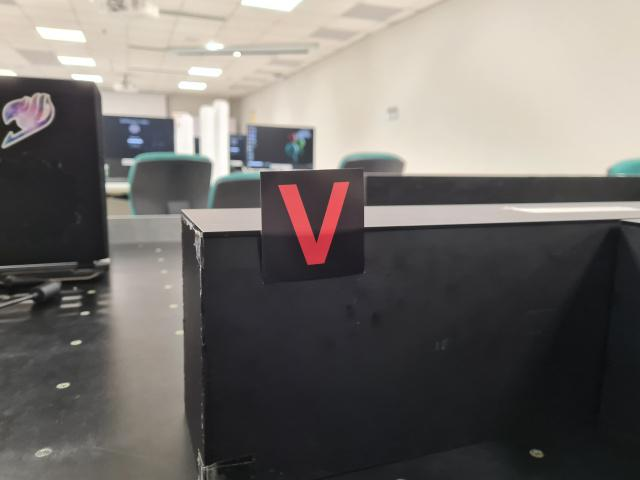v: (260, 169, 368, 282)
